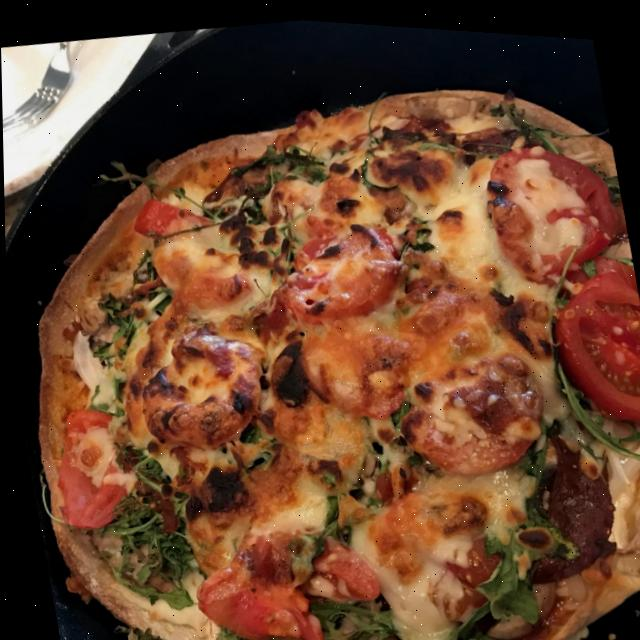pizza: (1, 31, 640, 640)
tomatoes: (183, 512, 385, 640), (476, 124, 622, 282), (37, 394, 144, 535), (547, 260, 640, 422), (273, 213, 405, 324), (293, 309, 415, 428), (415, 400, 534, 481), (128, 187, 211, 237)
